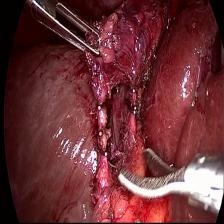Grasper: (27, 0, 102, 64)
Scissors: (115, 140, 217, 218)
